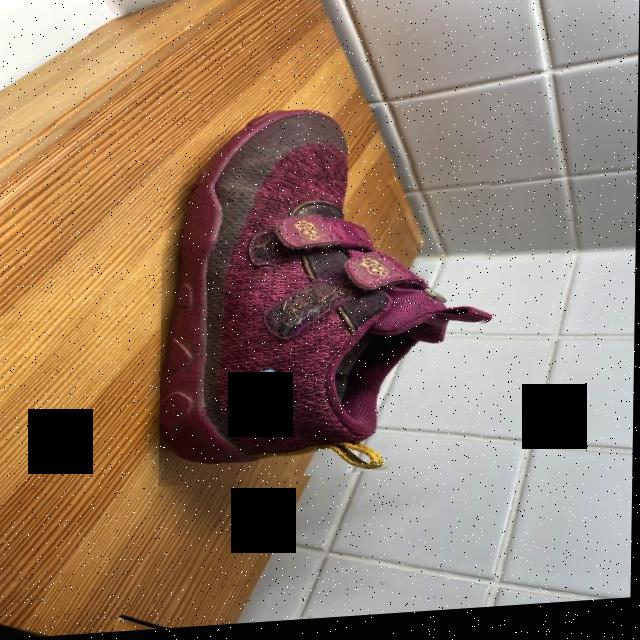shoe: (160, 102, 494, 489)
